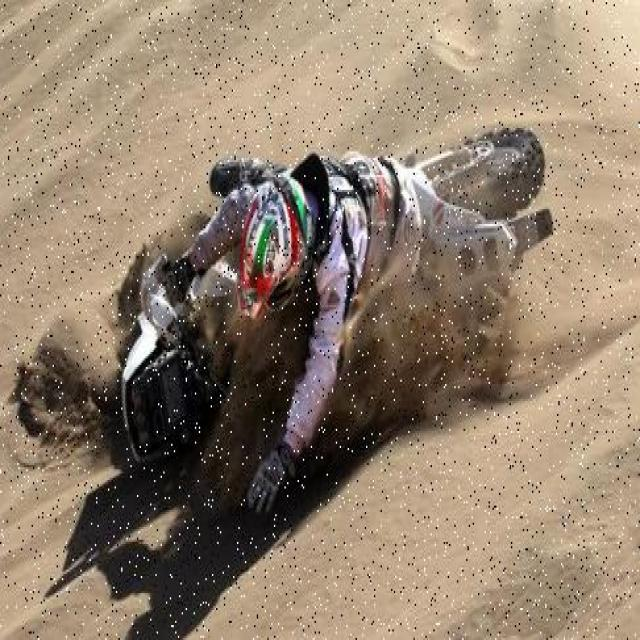fall: (182, 128, 422, 486)
